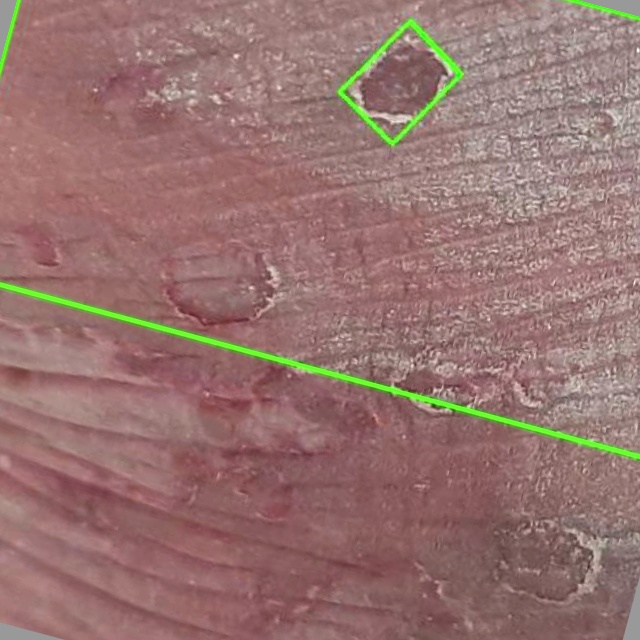Contact Dermatitis: (0, 0, 639, 457), (339, 22, 462, 144)
